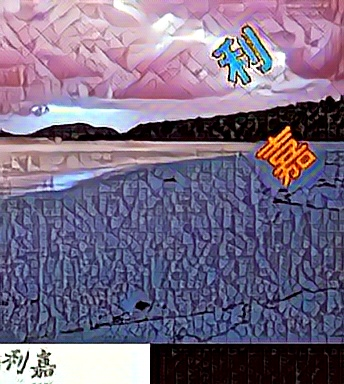BCCE: (255, 126, 322, 190)
C0FB: (209, 23, 276, 87)
